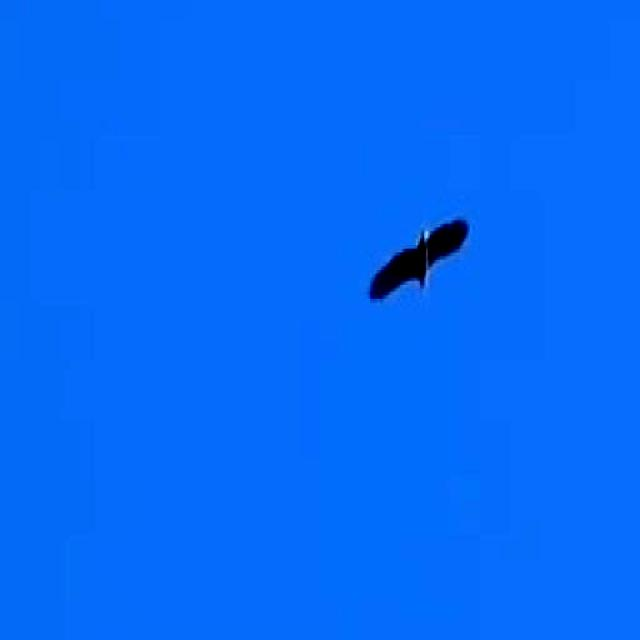airplane: (354, 188, 479, 321)
